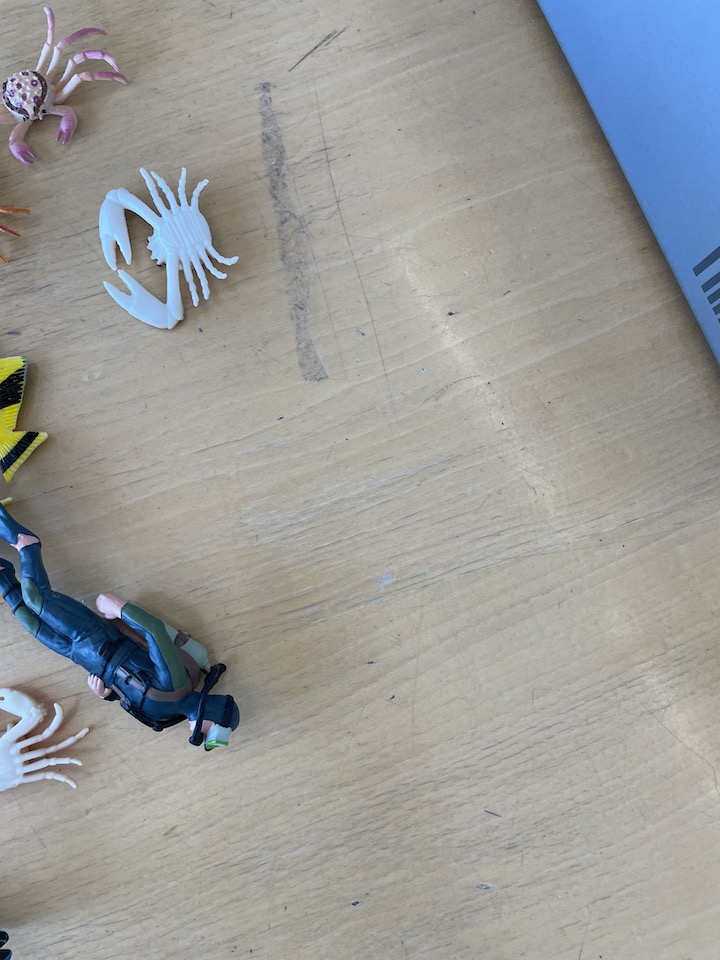crab: (93, 159, 242, 336), (1, 2, 129, 168), (1, 676, 95, 799), (1, 188, 34, 269)
danger: (1, 350, 56, 484)
diver: (1, 496, 242, 758)
